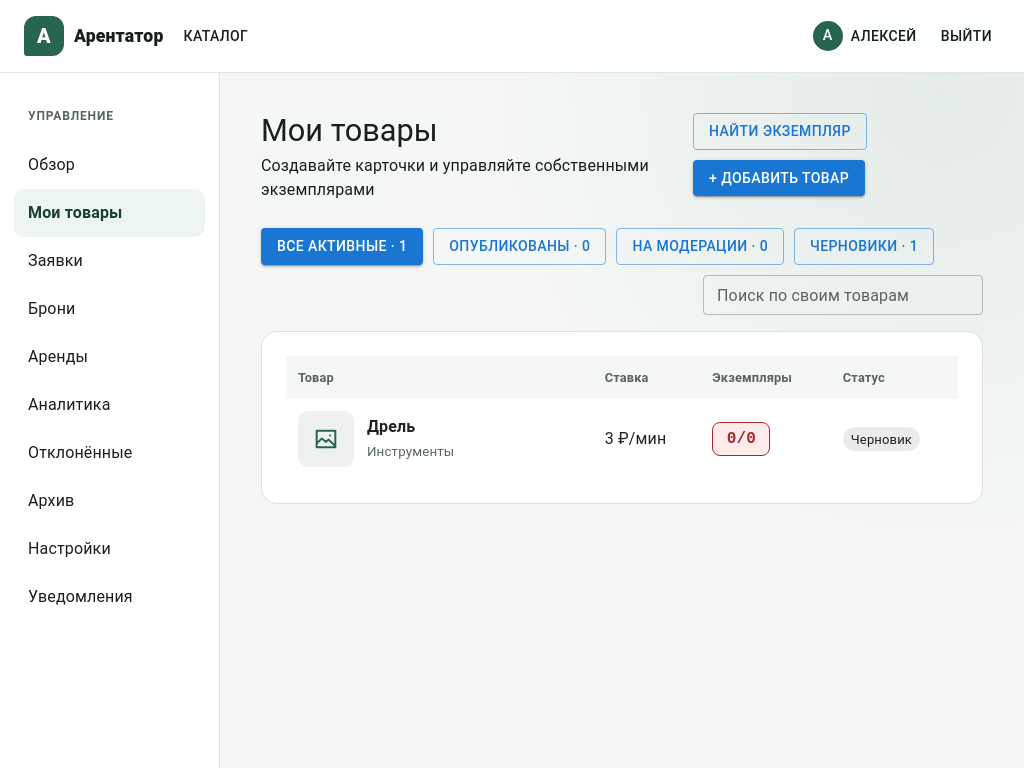
Test: keeps the completion success state after returning an instance to service
Click the button "Найти экземпляр" at (780, 131), box 693,113 -> 867,150
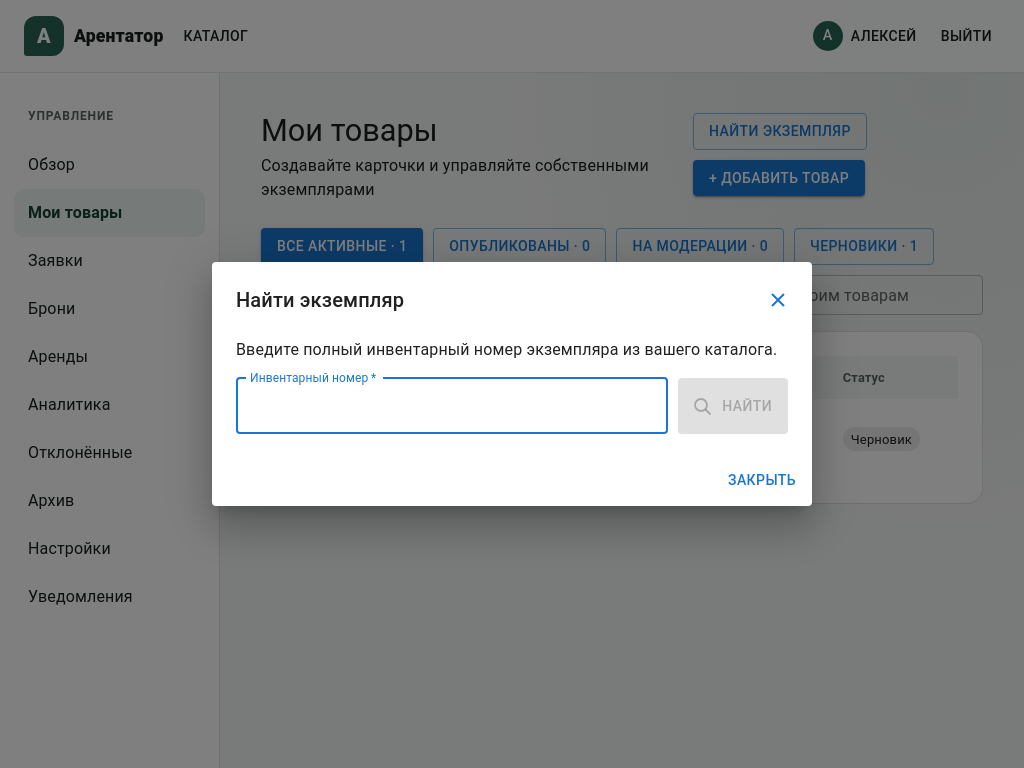
Type "MK-014" into the field labelled "Инвентарный номер" at (452, 406), box 236,378 -> 668,434
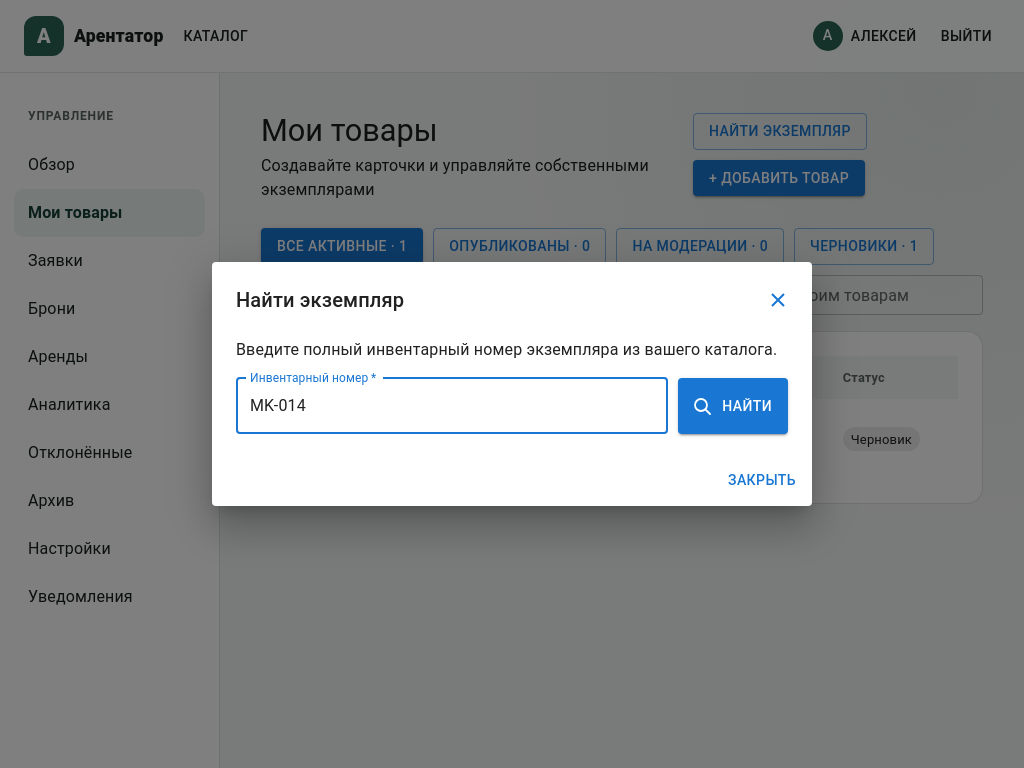
Click the button "Найти" at (733, 406), box 678,378 -> 788,434
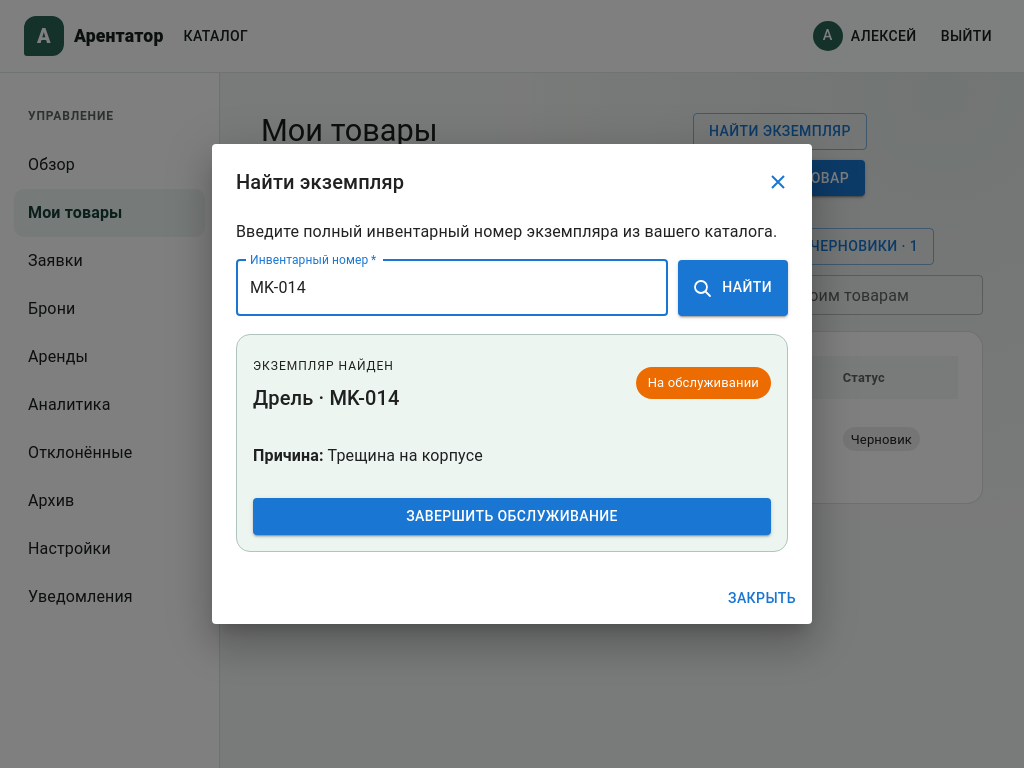
Click the button "Завершить обслуживание" at (512, 517), box 253,498 -> 771,535
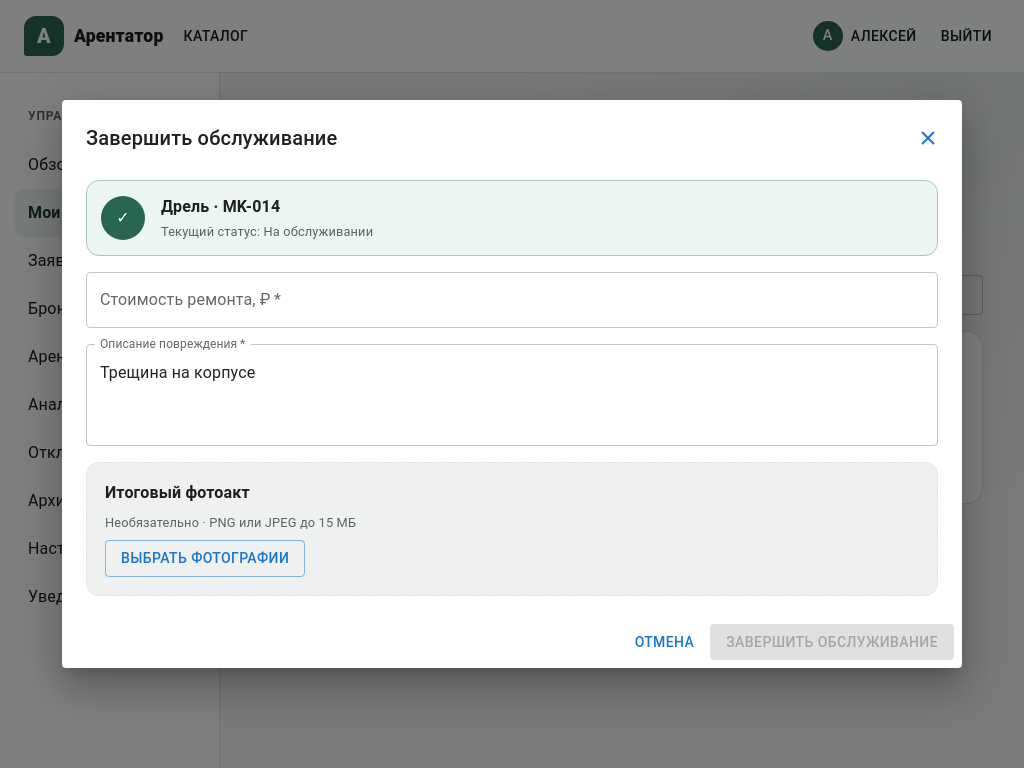
Type "640" into the number field labelled "Стоимость ремонта, ₽" at (512, 300), box 86,272 -> 938,328
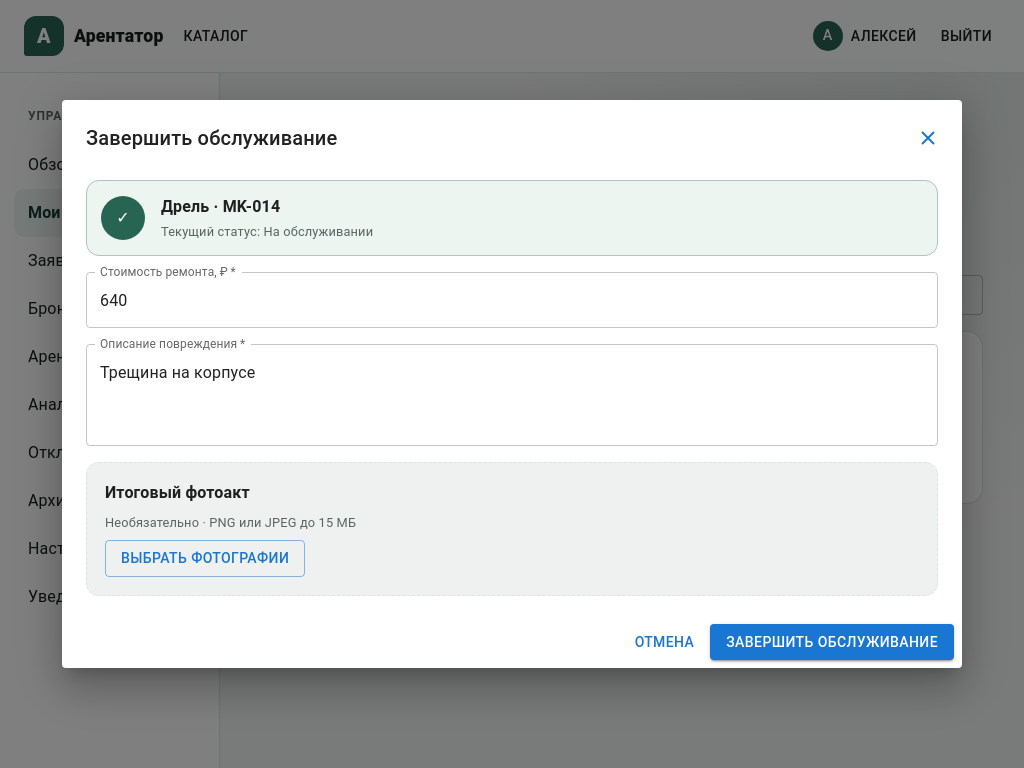
Replace the text in the text box labelled "Описание повреждения" with "Корпус заменён" at (512, 395), box 100,360 -> 924,430
Click the button "Завершить обслуживание" at (832, 642), box 710,624 -> 954,660
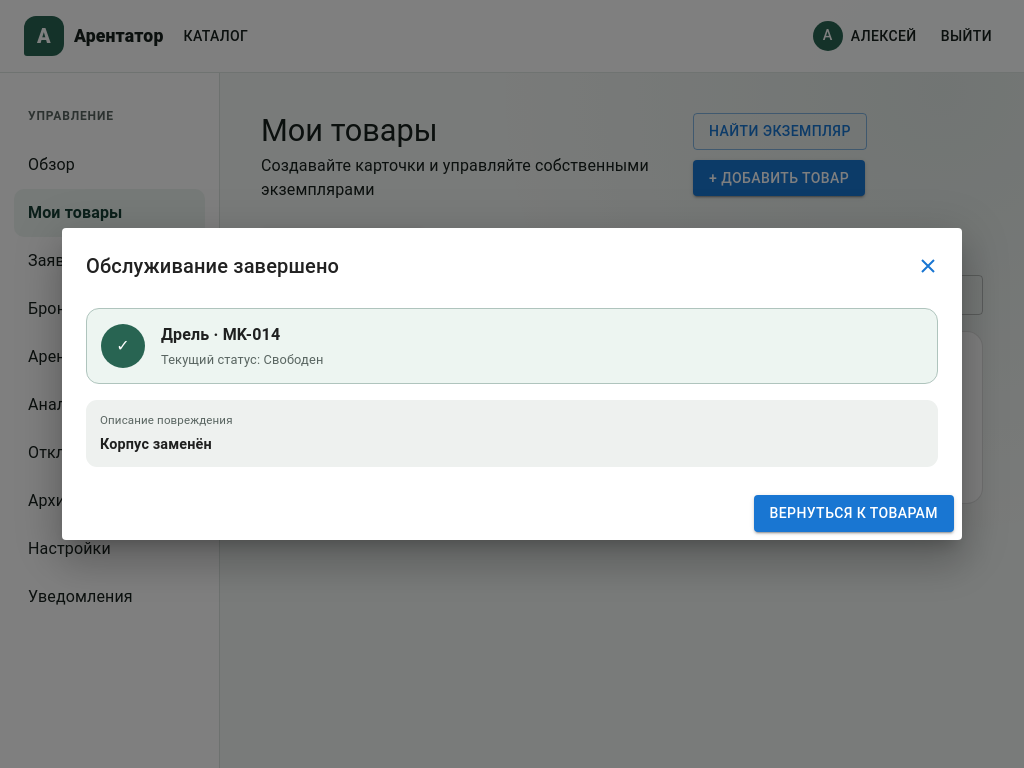
Check: the heading "Обслуживание завершено" is shown, box 86,244 -> 950,288
Check: the button "Вернуться к товарам" is shown, box 754,495 -> 954,532
